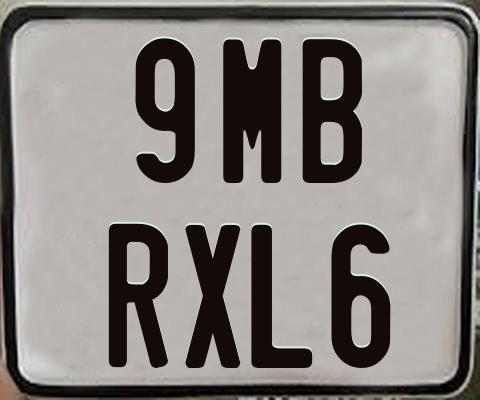6: (328, 224, 389, 370)
9: (132, 37, 194, 184)
B: (302, 37, 367, 184)
L: (251, 224, 318, 369)
M: (222, 37, 281, 181)
R: (106, 224, 165, 374)
X: (185, 224, 240, 367)
